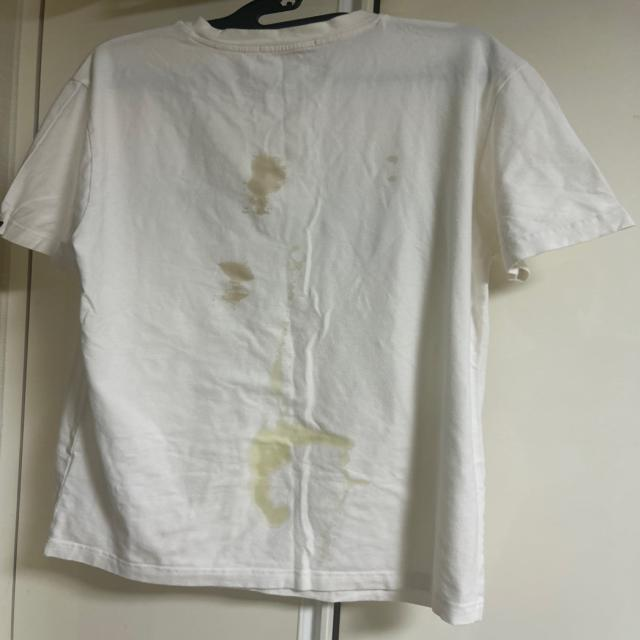stain: (251, 428, 287, 526), (243, 153, 281, 222), (275, 422, 341, 461), (256, 334, 292, 405), (347, 466, 379, 512), (386, 151, 416, 196), (221, 262, 250, 304)
